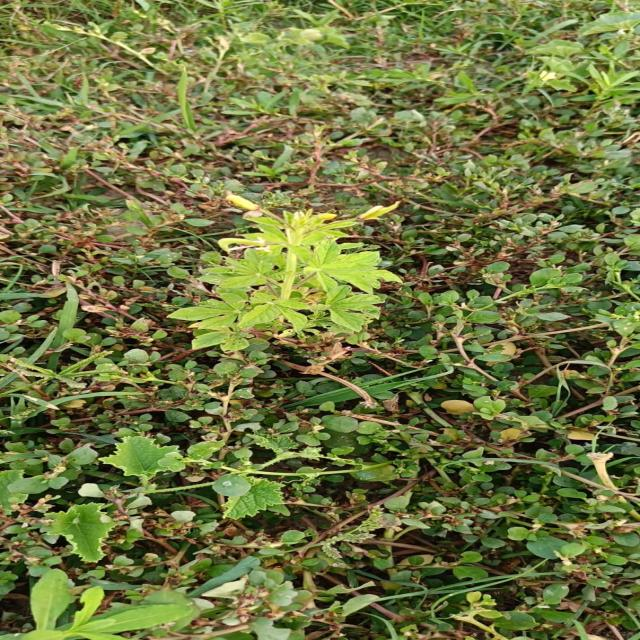plant: (168, 195, 399, 351)
